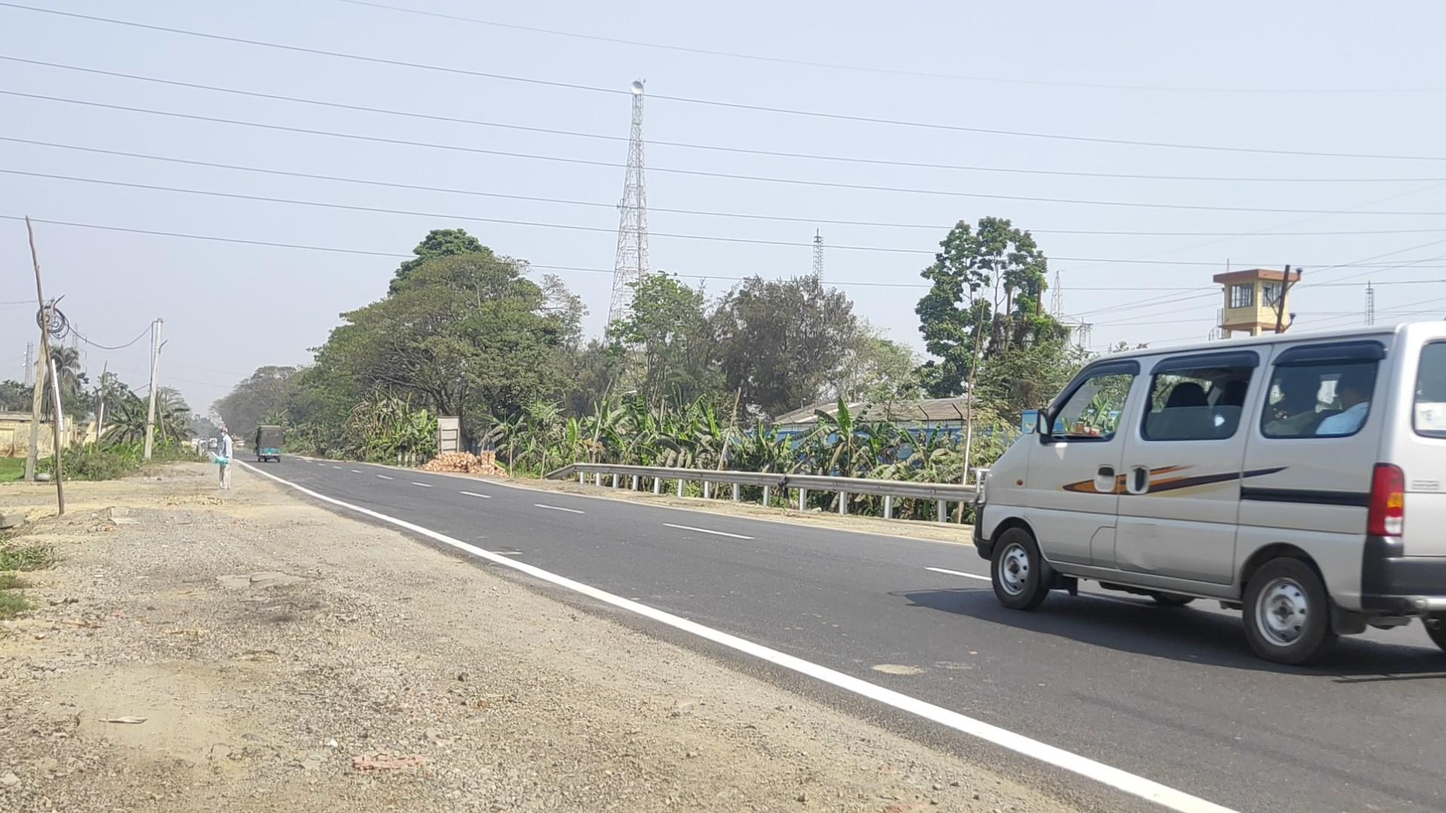Auto: (255, 424, 283, 464)
van: (972, 315, 1446, 665)
